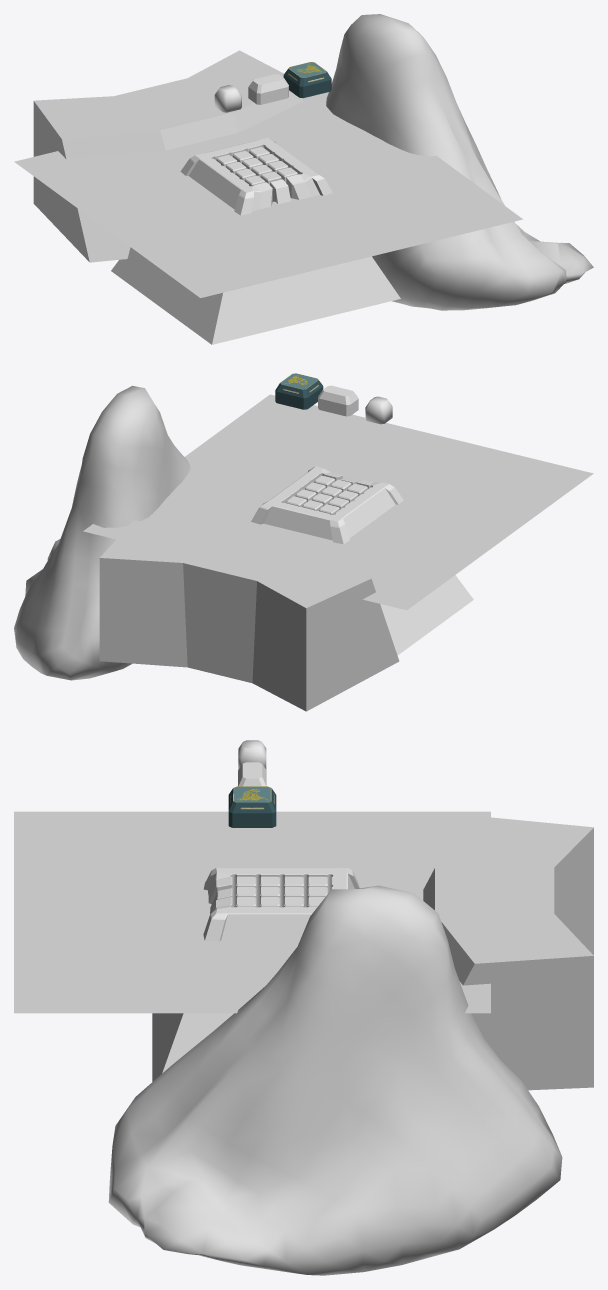
File: SceneMeshes.fbx
The picture shows the model from 3 angles, top to bottom: view 1: azimuth 30°, elevation 25°; view 2: azimuth 150°, elevation 25°; view 3: azimuth 270°, elevation 25°; orthographic projection. The views are drawn at different scales.
Parts seen in each view (by area): view 1: Plane.002, Cube.013, Cube.010, Cube.012, low.004, low.003, low.002; view 2: Plane.002, Cube.012, Cube.013, Cube.010, low.004, low.003, low.002; view 3: Cube.013, Plane.002, Cube.012, Cube.010, low.004.
Part boxes in pixels (bbox=[...]): Plane.002: bbox=[14, 92, 522, 297]; Cube.013: bbox=[326, 14, 593, 310]; Cube.010: bbox=[111, 137, 400, 344]; Cube.012: bbox=[33, 50, 303, 262]; low.004: bbox=[283, 62, 331, 98]; low.003: bbox=[248, 74, 288, 104]; low.002: bbox=[214, 85, 241, 112]; Plane.002: bbox=[83, 394, 593, 610]; Cube.012: bbox=[99, 520, 399, 711]; Cube.013: bbox=[14, 385, 190, 680]; Cube.010: bbox=[251, 466, 473, 655]; low.004: bbox=[275, 373, 323, 409]; low.003: bbox=[318, 385, 358, 416]; low.002: bbox=[365, 396, 392, 424]; Cube.013: bbox=[108, 885, 562, 1275]; Plane.002: bbox=[14, 811, 490, 1013]; Cube.012: bbox=[423, 816, 593, 1090]; Cube.010: bbox=[152, 868, 359, 1081]; low.004: bbox=[228, 786, 276, 827].
Size of the model in its own units: 2831 by 1616 by 2433.
